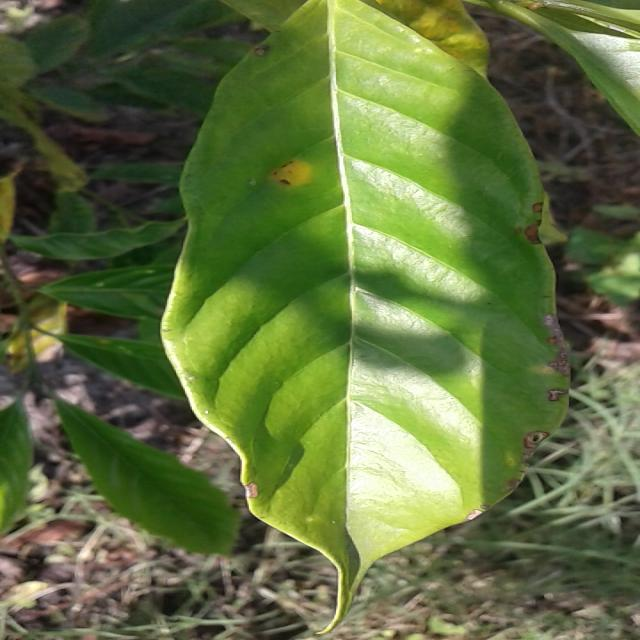Enfermedad-Roya: (159, 0, 571, 633)
